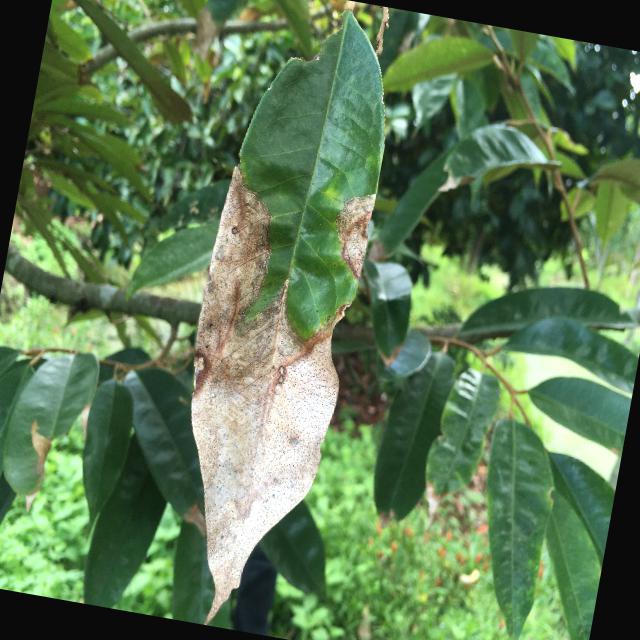Leaf Blight: (138, 0, 419, 639)
